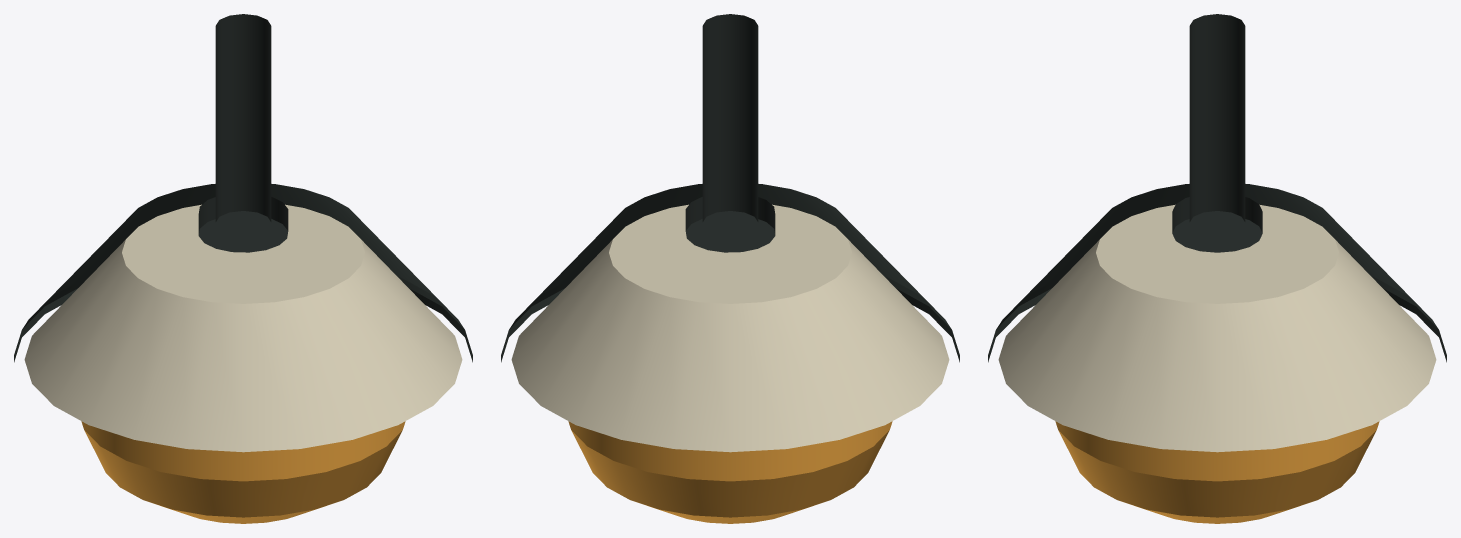
File: p2_sodium_head.glb
3 renders of one model, left to right at view 1: azimuth 30°, elevation 25°; view 2: azimuth 150°, elevation 25°; view 3: azimuth 270°, elevation 25°, orthographic.
Parts seen in each view (by area): view 1: main; view 2: main; view 3: main.
Boxes of the visible parts, box(x1,y1,x2,y2) form: main: box(14, 14, 472, 523); main: box(501, 14, 959, 523); main: box(988, 14, 1446, 523).
Bounding box in the file's own units: 0.264 × 0.3 × 0.264.
1 material, 1 textured.
